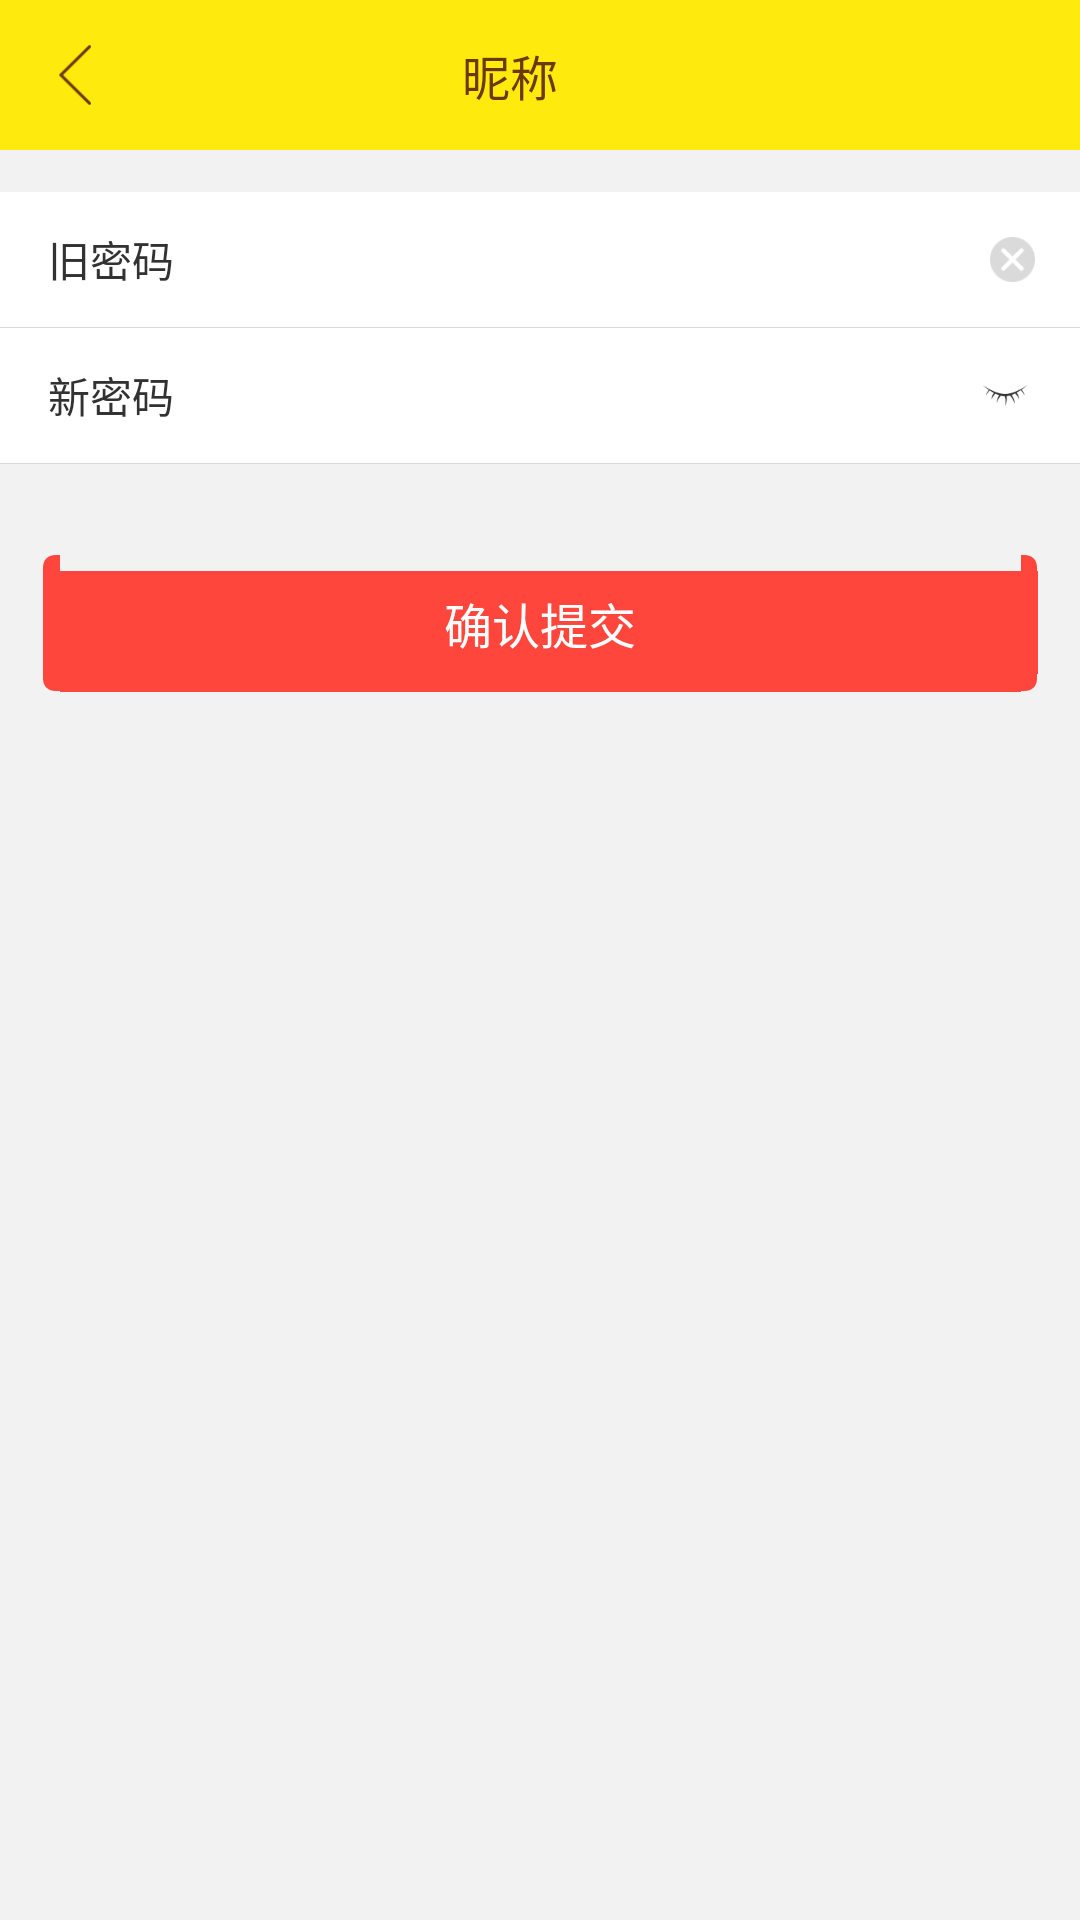

Where to tap for icons on this 1080 × 1920 app screen, as [x,y]:
edit clear: [1012,259]
password hide: [1005,396]
top back: [75,75]
